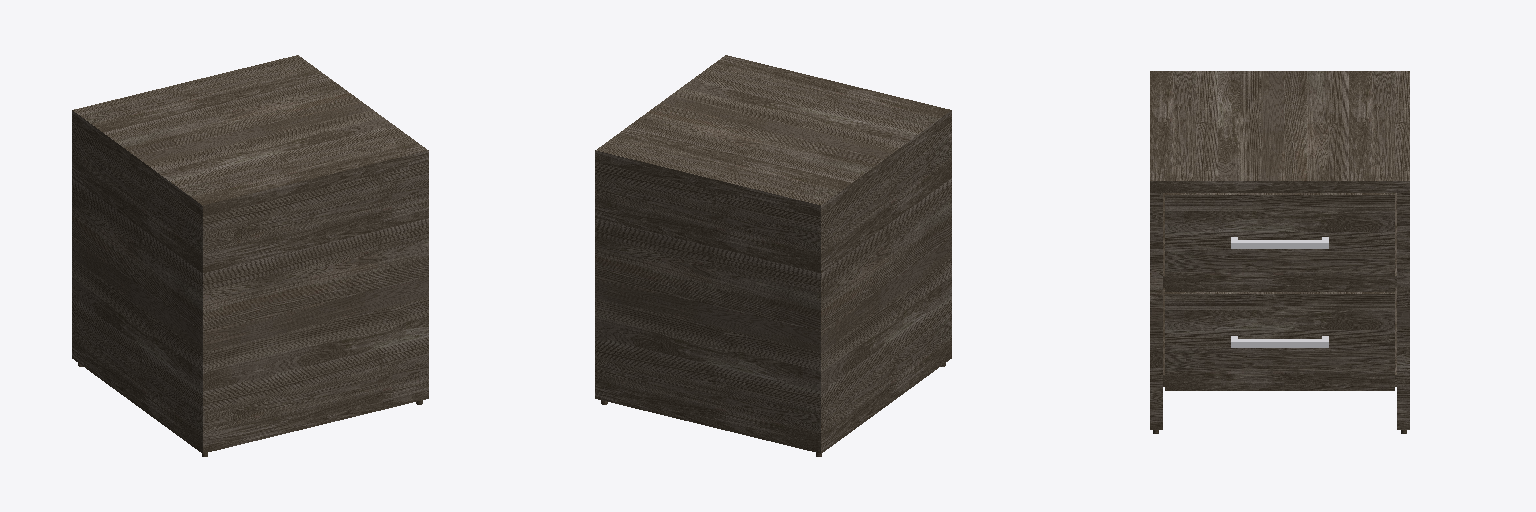
3 renders of one model, left to right at view 1: azimuth 30°, elevation 25°; view 2: azimuth 150°, elevation 25°; view 3: azimuth 270°, elevation 25°, orthographic.
Parts seen in each view (by area): view 1: Mesh12 Group11 Group1 Model, Mesh5 Group6 Group1 Model; view 2: Mesh12 Group11 Group1 Model, Mesh5 Group6 Group1 Model; view 3: Mesh5 Group6 Group1 Model, Mesh1 Group3 Group2 Group1 Model, Mesh10 Group9 Group8 Group1 Model, Mesh12 Group11 Group1 Model, Mesh3 Component_1_1 Group5 Group1 Model, Mesh4 Component_1_2 Group5 Group1 Model.
Part boxes in pixels (bbox=[...]): Mesh12 Group11 Group1 Model: bbox=[72, 122, 428, 453]; Mesh5 Group6 Group1 Model: bbox=[72, 55, 428, 216]; Mesh12 Group11 Group1 Model: bbox=[595, 122, 951, 453]; Mesh5 Group6 Group1 Model: bbox=[595, 55, 951, 216]; Mesh5 Group6 Group1 Model: bbox=[1150, 71, 1409, 192]; Mesh1 Group3 Group2 Group1 Model: bbox=[1165, 193, 1394, 291]; Mesh10 Group9 Group8 Group1 Model: bbox=[1165, 292, 1394, 390]; Mesh12 Group11 Group1 Model: bbox=[1150, 193, 1409, 429]; Mesh3 Component_1_1 Group5 Group1 Model: bbox=[1231, 336, 1328, 347]; Mesh4 Component_1_2 Group5 Group1 Model: bbox=[1231, 237, 1328, 248].
Size of the model in its own units: 42 by 43 by 40.
2 materials, 1 textured.